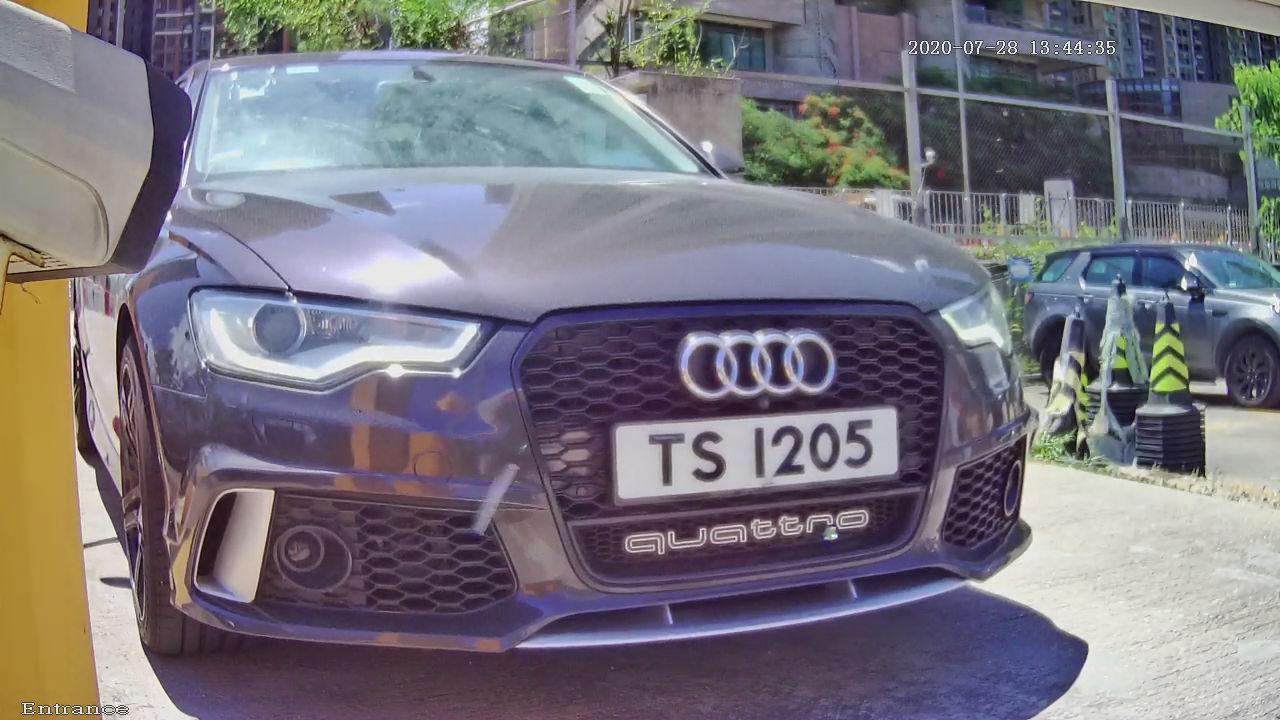privatecar: (29, 17, 1143, 704)
